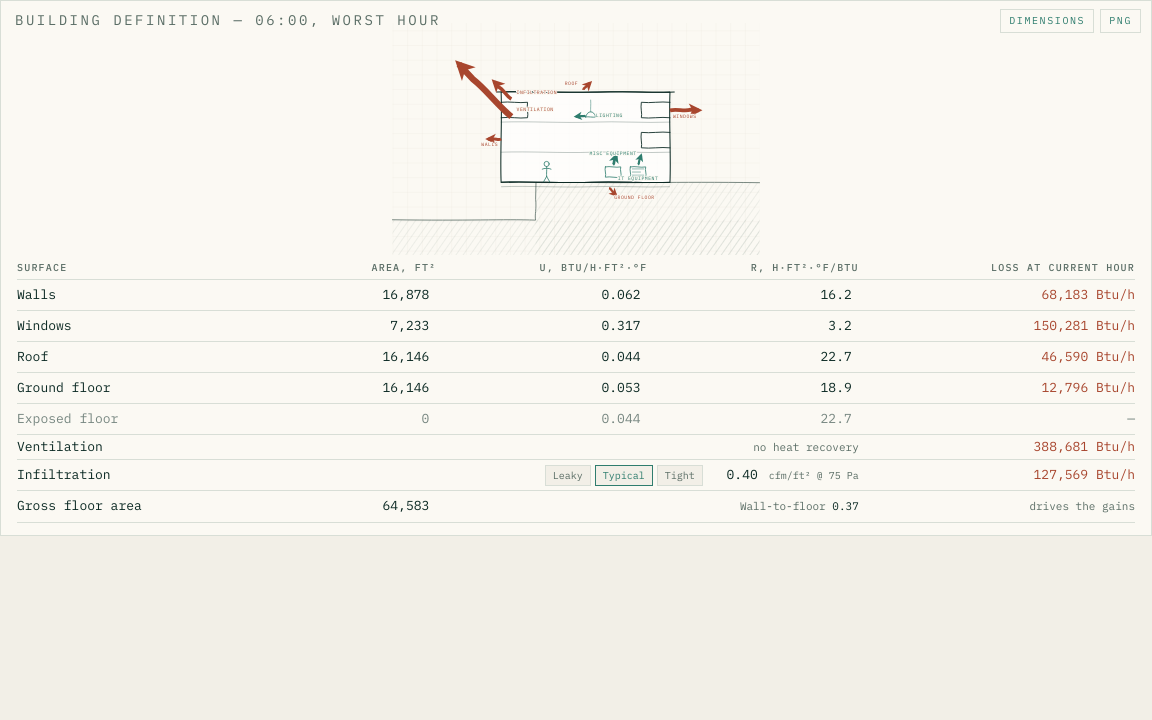
Test: the dimensions drawer › opens on the handle and puts all five fields on screen
Click the button "Dimensions" at coordinates (1047, 21), box [1000,9,1094,32]
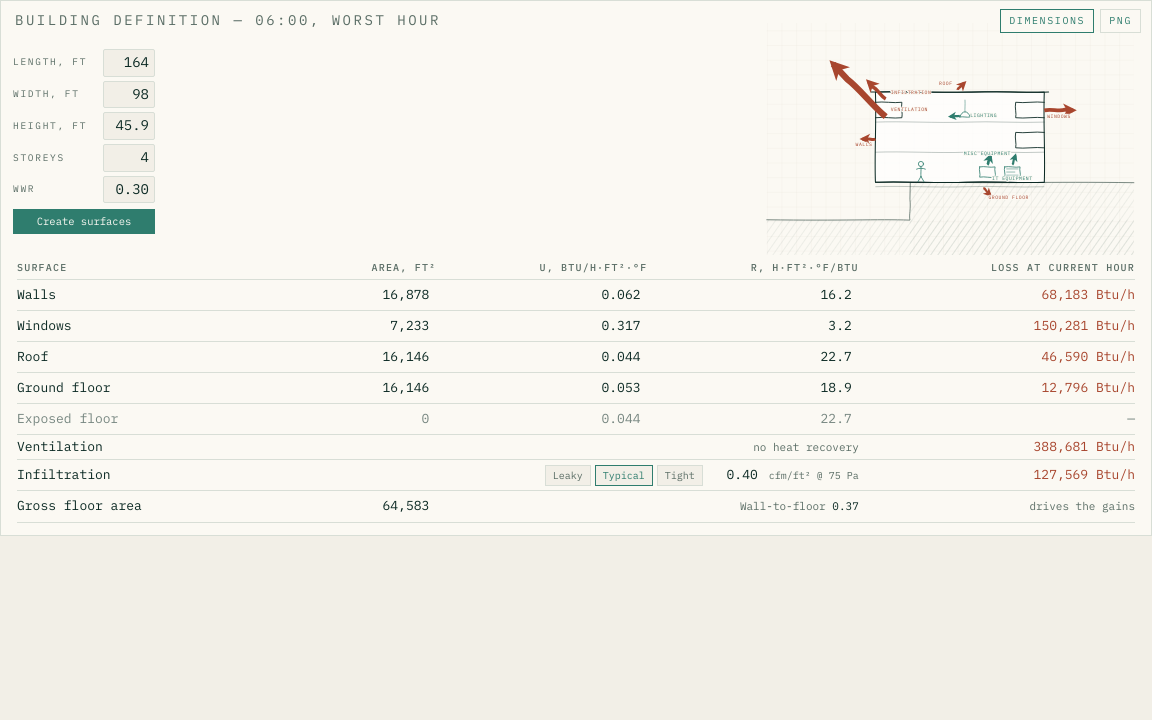
expect the button "Dimensions" is expanded: met, box [1000,9,1094,32]
expect the field named "Box length, ft" is shown: met, box [103,49,155,77]
expect the field named "Box width, ft" is shown: met, box [103,81,155,108]
